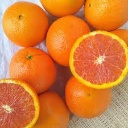orange: (69, 32, 128, 89), (2, 2, 51, 47), (1, 78, 42, 128)
